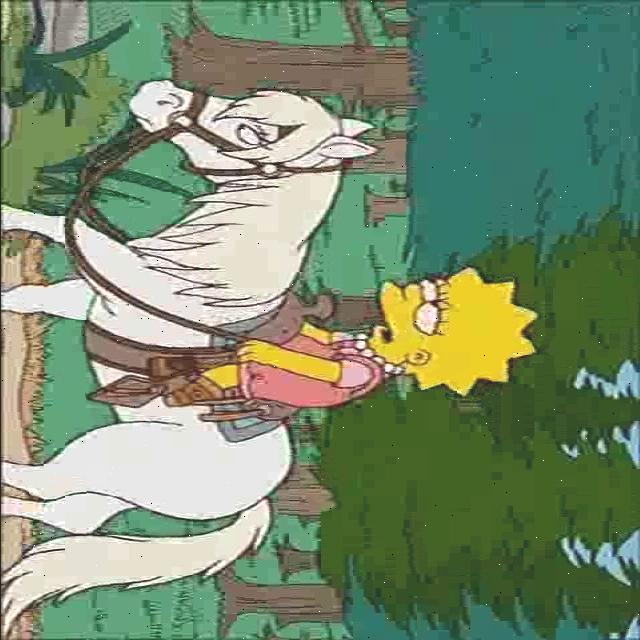Lisa Simpson: (353, 266, 540, 394)
